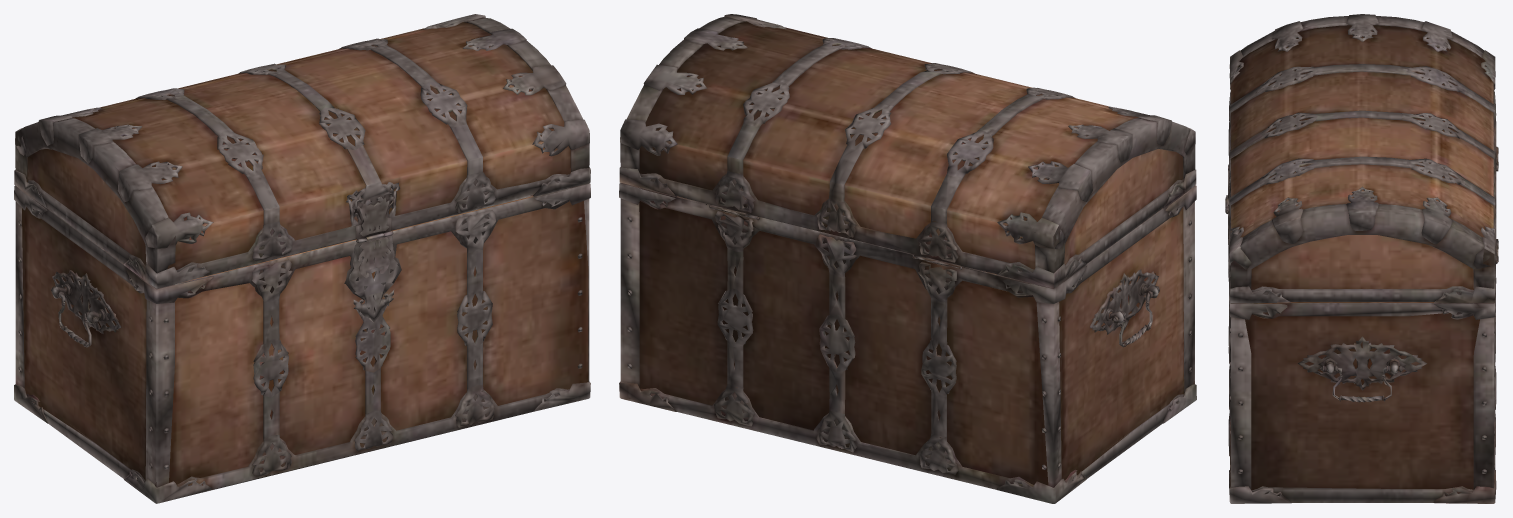
The model's file is hp_room_cc0_chest.glb.
3 renders of one model, left to right at view 1: azimuth 30°, elevation 25°; view 2: azimuth 150°, elevation 25°; view 3: azimuth 270°, elevation 25°, orthographic. The views are drawn at different scales.
Visible parts, largest first — view 1: treasure_chest_bottom; view 2: treasure_chest_bottom; view 3: treasure_chest_bottom.
Part boxes in pixels (x1=…): treasure_chest_bottom: x1=14, y1=14, x2=590, y2=503; treasure_chest_bottom: x1=619, y1=14, x2=1196, y2=503; treasure_chest_bottom: x1=1225, y1=14, x2=1498, y2=503.
Size of the model in its own units: 0.959 by 0.6179 by 0.5223.
1 material, 1 textured.
